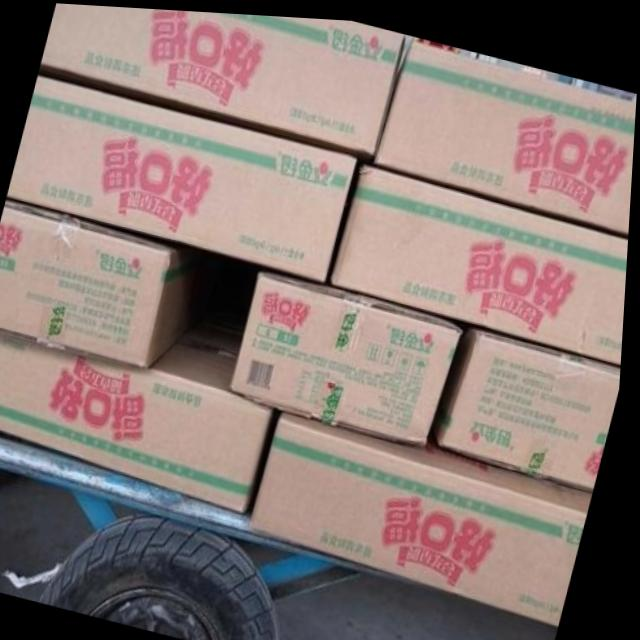box: (256, 402, 598, 620), (9, 69, 359, 278), (331, 158, 631, 357), (0, 295, 279, 507), (41, 3, 405, 154), (374, 38, 637, 229), (235, 266, 464, 442), (0, 201, 235, 368), (437, 315, 625, 484)
